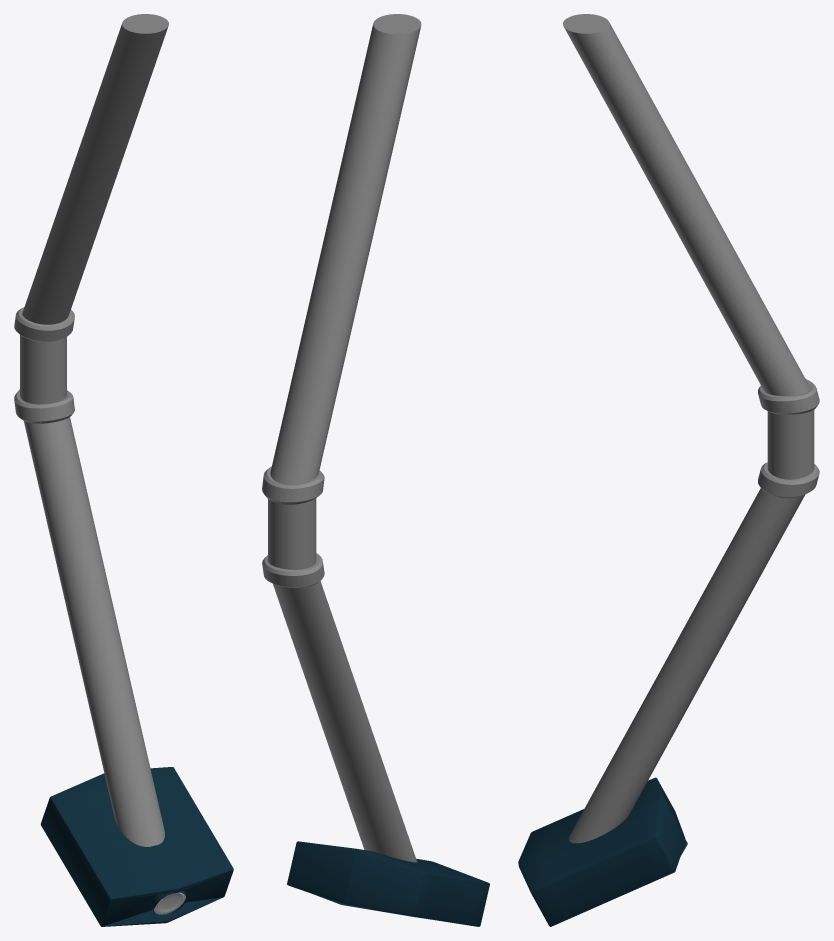
The model's file is projector.fbx.
3 views of the same model, side by side, from view 1: azimuth 30°, elevation 25°; view 2: azimuth 150°, elevation 25°; view 3: azimuth 270°, elevation 25° (orthographic). The views are drawn at different scales.
Visible parts, largest first — view 1: Cylinder.001; view 2: Cylinder.001; view 3: Cylinder.001.
Part boxes in pixels (left/top/right/bottom): Cylinder.001: left=14, top=14, right=233, bottom=926; Cylinder.001: left=262, top=14, right=489, bottom=926; Cylinder.001: left=518, top=14, right=819, bottom=926.
Size of the model in its own units: 31.92 by 214 by 66.17.
